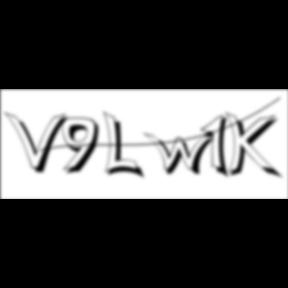1: (200, 114, 235, 182)
9: (62, 117, 106, 177)
K: (225, 110, 284, 182)
L: (104, 110, 148, 182)
V: (4, 110, 72, 176)
w: (144, 132, 222, 178)
